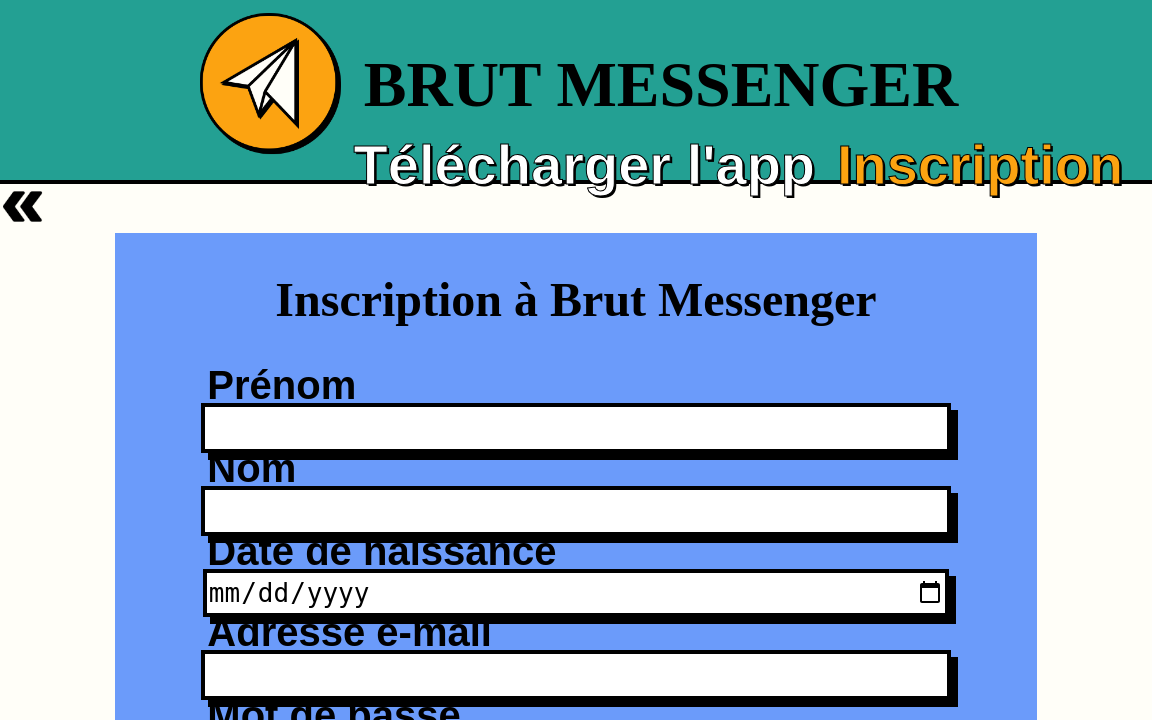
Test: addUserForm › error-empty-birthday
This screenshot has width=1152, height=720.
In the field with id "first-name": [576, 428] box [201,403,950,453], type "Maxime"
In the field with id "last-name": [576, 511] box [201,486,950,536], type "Authié"
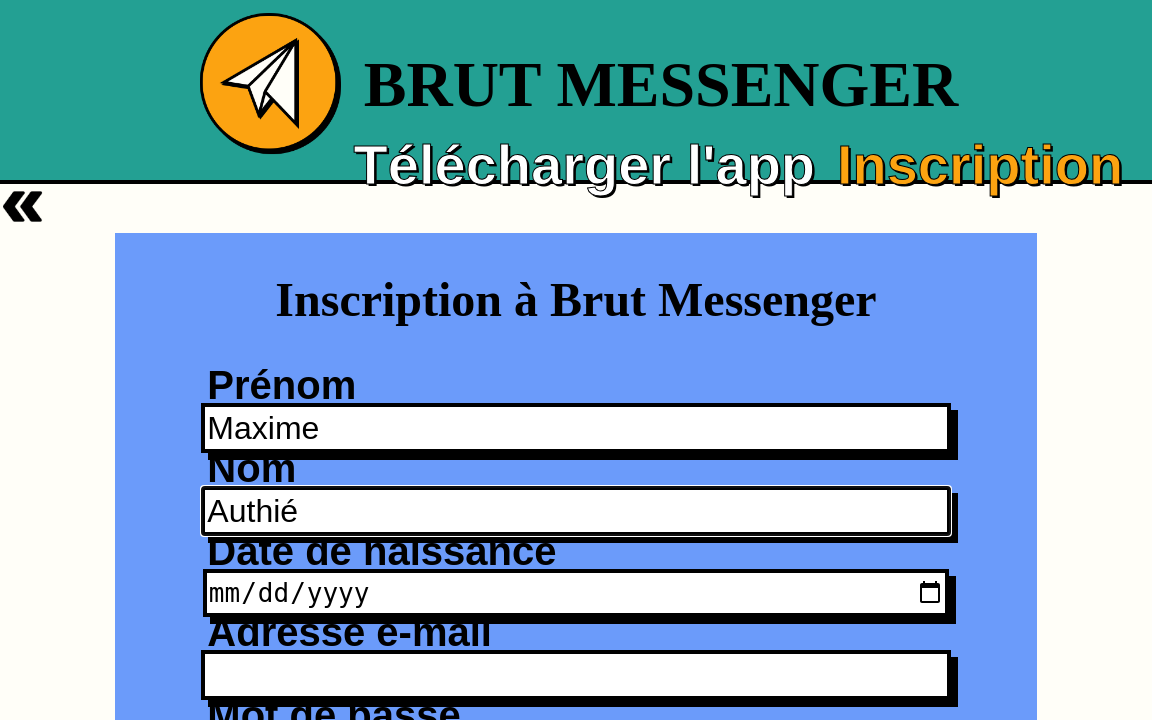
In the field with id "email": [576, 675] box [201,650,950,700], type "authie.maxime@orange.fr"
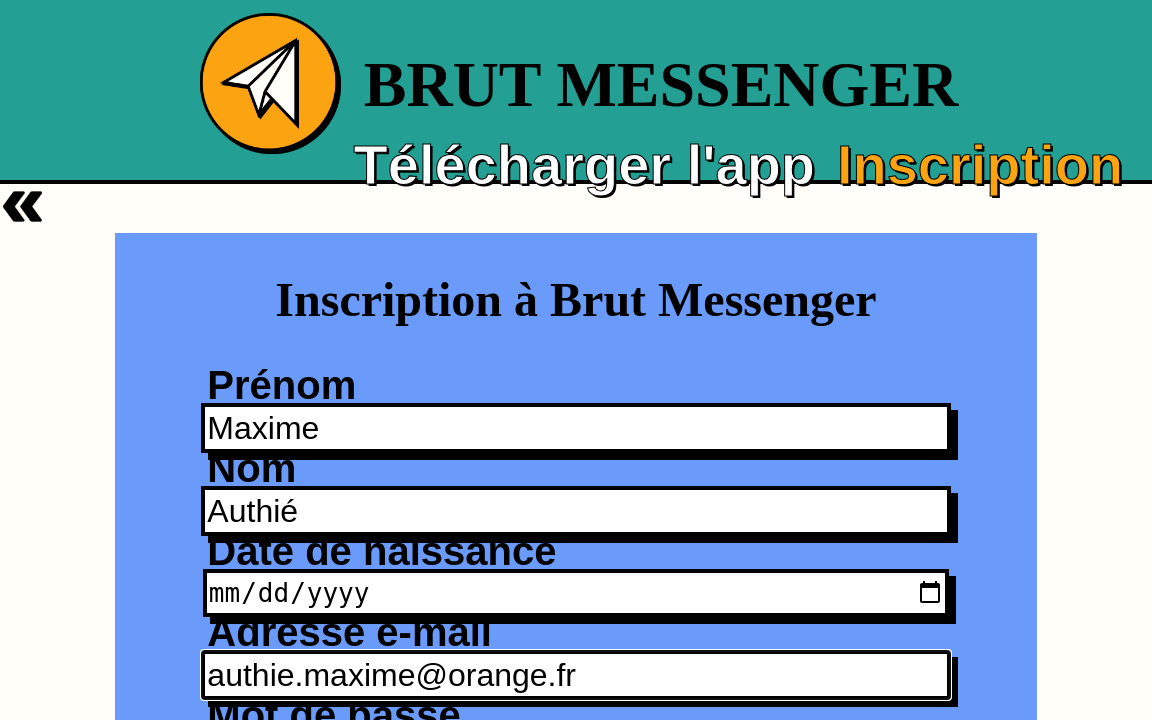
Scroll
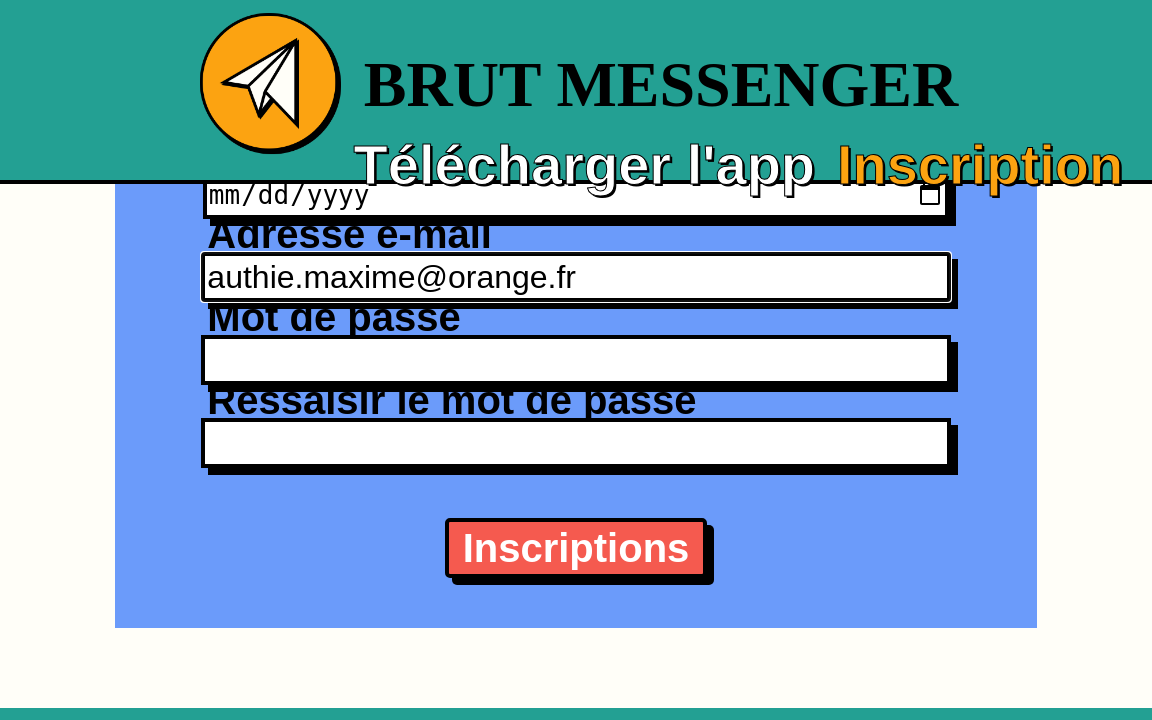
In the password field labelled "Mot de passe": [576, 360] box [201,335,950,385], type "Azerty99"
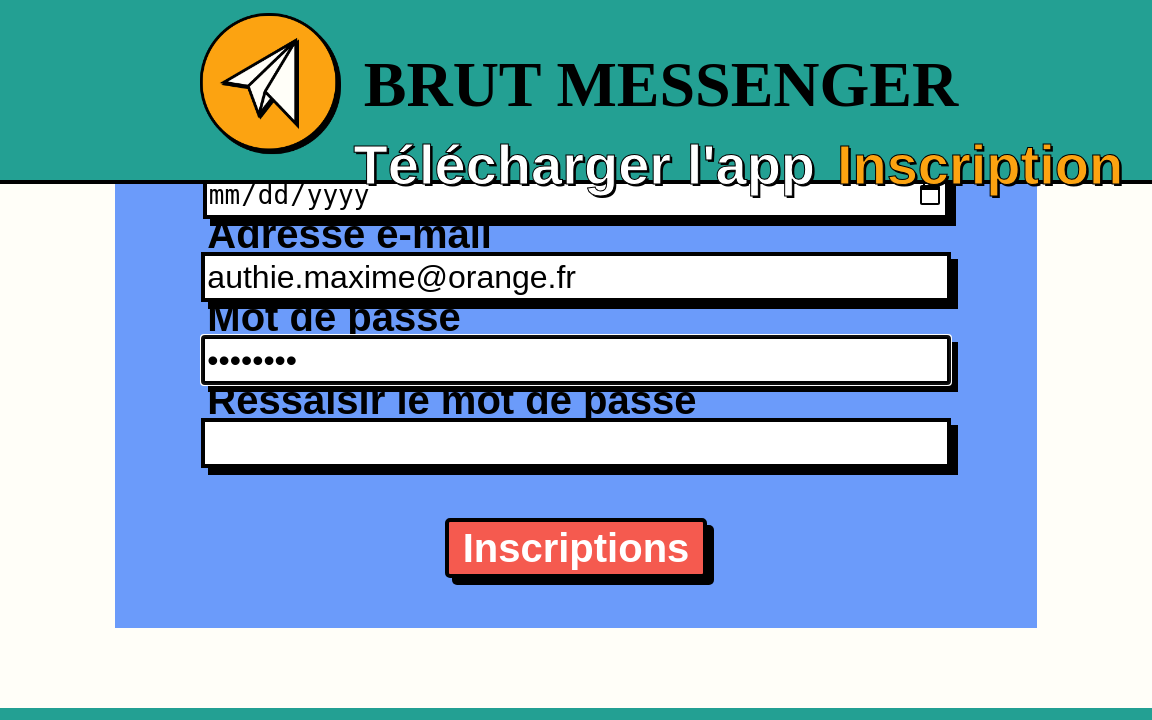
In the password field with id "re-password": [576, 443] box [201,418,950,468], type "Azerty99"
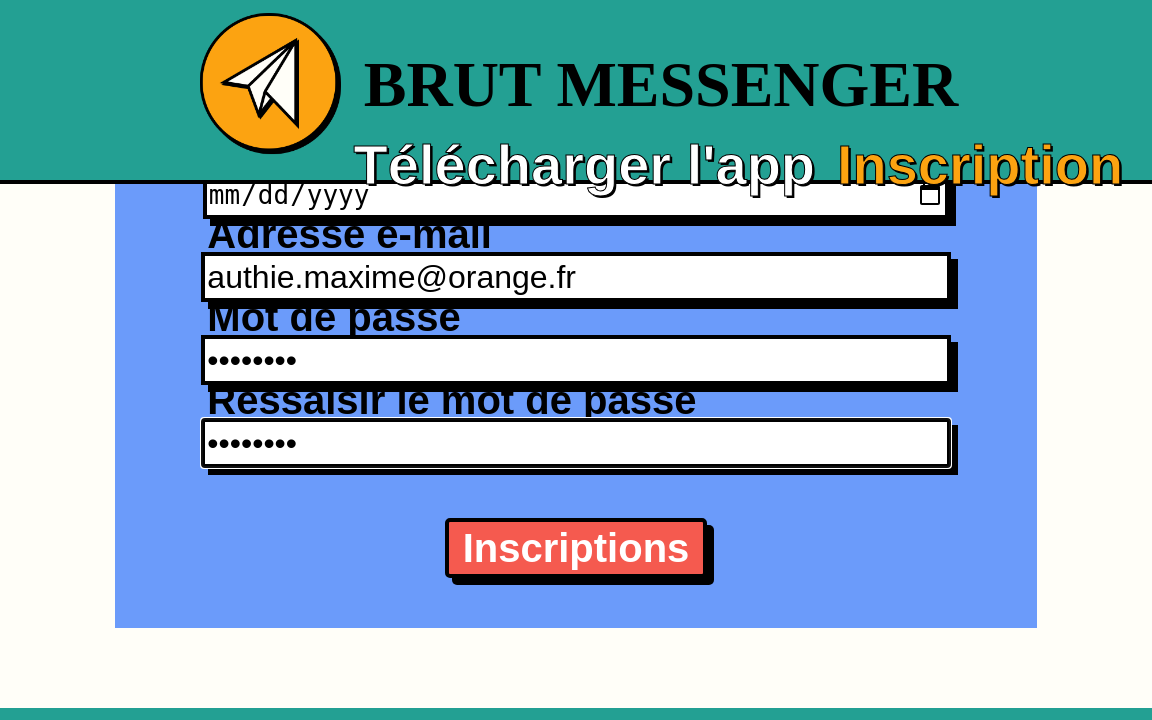
Click the 2nd field: [576, 548] box [445,518,707,578]
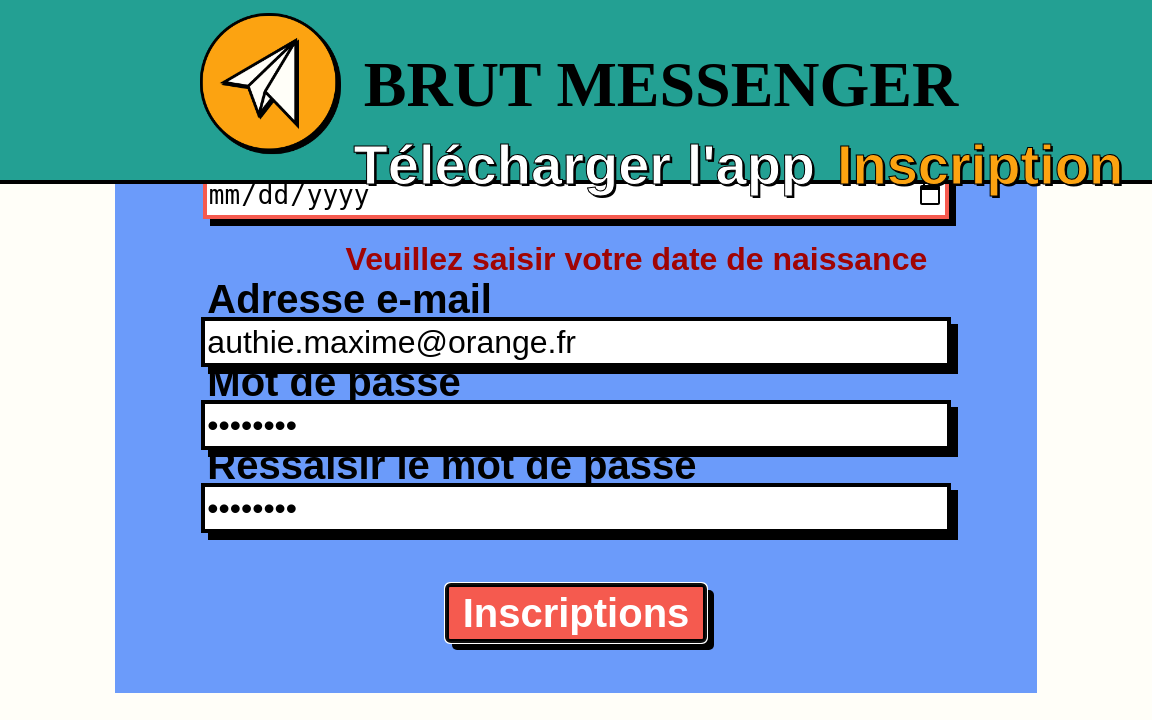
Expected: the text with id "birthdayEmpty" reads "Veuillez saisir votre date de naissance", [346,241,928,277]
